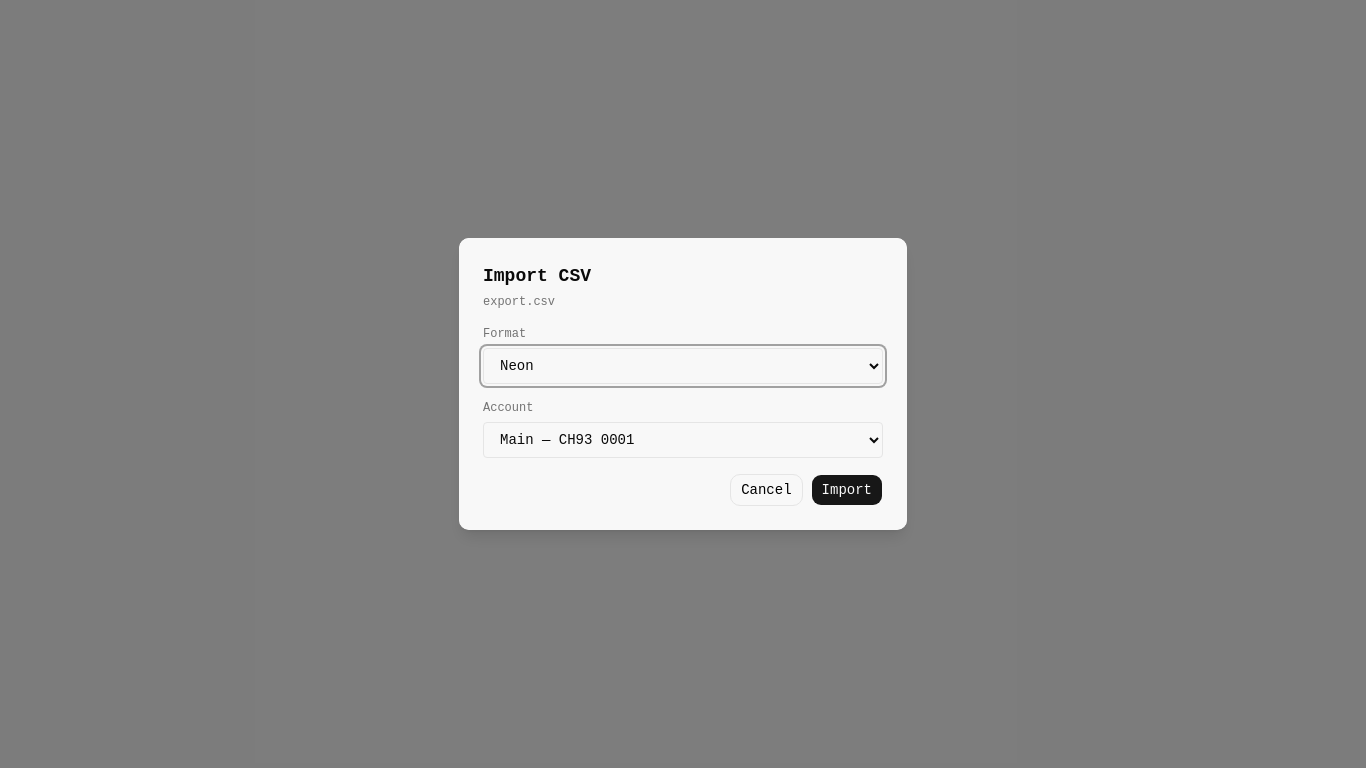
it: errors and lifecycle › surfaces a backend import error
Click the button "Import".
click(847, 490)  # box [811,474,883,506]
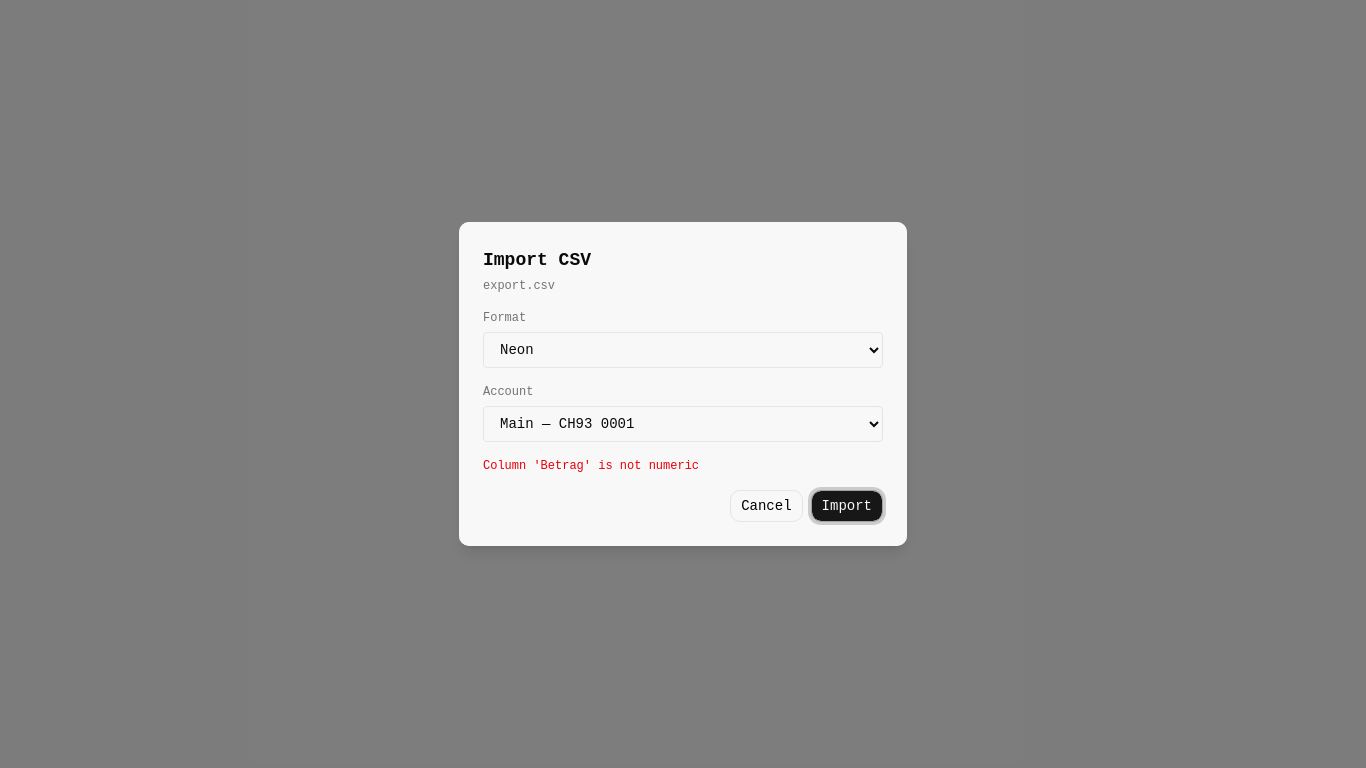
Check: the message reads "Column 'Betrag' is not numeric", box [483,459,699,473]
